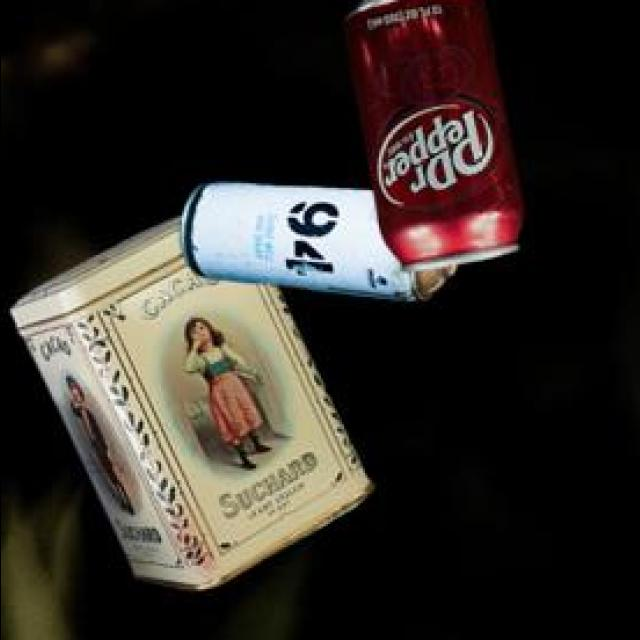logam: (6, 221, 370, 592), (340, 0, 518, 274), (175, 187, 451, 305)
